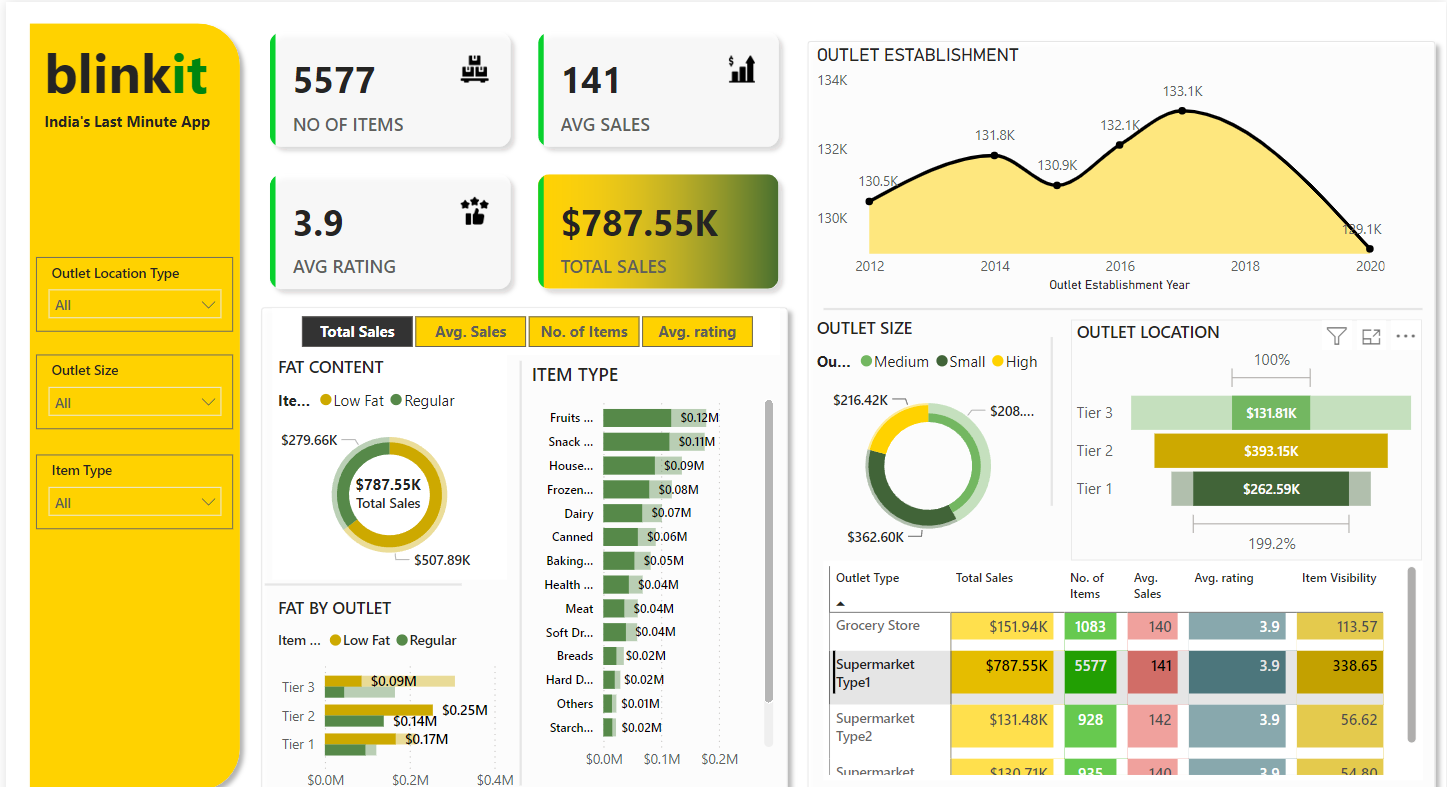

The page's visual inventory and layout, read from the dashboard file:
{"tool":"powerbi","page":{"name":"Page 1","canvas":[1280,720],"ordinal":0},"visuals":[{"type":"shape","box":[12.3,9.6,204.5,699.8],"z":0},{"type":"textbox","box":[28.8,24.7,164.7,76.8],"z":1000},{"type":"textbox","box":[28.8,91.9,164.7,46.7],"z":2000},{"type":"cardVisual","fields":{"Data":["BlinkIT Grocery Data.No. of Items","BlinkIT Grocery Data.Avg. Sales","BlinkIT Grocery Data.Avg. rating","BlinkIT Grocery Data.Total Sales"]},"box":[217.6,9.8,486.7,262.2],"z":3000},{"type":"shape","box":[217.5,262.5,486.2,447.5],"z":4000},{"type":"donutChart","title":"FAT CONTENT","fields":{"Y":["BlinkIT Grocery Data.Total Sales"],"Category":["BlinkIT Grocery Data.Item Fat Content"]},"box":[236.2,313.8,208.8,200],"z":5000},{"type":"slicer","fields":{"Values":["Metrics.Metrics"]},"box":[236.2,272.5,451.2,41.2],"z":6000},{"type":"cardVisual","fields":{"Data":["BlinkIT Grocery Data.Total Sales"]},"box":[291.1,402.2,97.8,64.4],"z":6001},{"type":"clusteredBarChart","title":"FAT BY OUTLET","fields":{"Y":["BlinkIT Grocery Data.Total Sales"],"Category":["BlinkIT Grocery Data.Outlet Location Type"],"Series":["BlinkIT Grocery Data.Item Fat Content"]},"box":[236.2,527.5,228.8,182.5],"z":6002},{"type":"shape","box":[230,507.5,175,20],"z":6003},{"type":"shape","box":[450,318.8,15,377.5],"z":6004},{"type":"barChart","title":"ITEM TYPE","fields":{"Category":["BlinkIT Grocery Data.Item Type"],"Y":["BlinkIT Grocery Data.Total Sales"]},"box":[462.5,318.8,225,372.5],"z":6005},{"type":"shape","box":[703.8,25,576.2,685],"z":6006},{"type":"lineChart","title":"OUTLET ESTABLISHMENT","fields":{"Category":["BlinkIT Grocery Data.Outlet Establishment Year"],"Y":["Sum(BlinkIT Grocery Data.Sales)"]},"box":[715,37.5,515,225],"z":6007},{"type":"shape","box":[726.2,266.2,532.5,12.5],"z":6008},{"type":"donutChart","title":"OUTLET SIZE","fields":{"Y":["BlinkIT Grocery Data.Total Sales"],"Category":["BlinkIT Grocery Data.Outlet Size"]},"box":[715,278.8,208.8,217.5],"z":6009},{"type":"shape","box":[923.8,297.5,12.5,150],"z":6010},{"type":"funnel","title":"OUTLET LOCATION","fields":{"Category":["BlinkIT Grocery Data.Outlet Location Type"],"Y":["BlinkIT Grocery Data.Total Sales"]},"box":[946.2,282.5,312.5,213.8],"z":6011},{"type":"pivotTable","fields":{"Rows":["BlinkIT Grocery Data.Outlet Type"],"Values":["BlinkIT Grocery Data.Total Sales","BlinkIT Grocery Data.No. of Items","BlinkIT Grocery Data.Avg. Sales","BlinkIT Grocery Data.Avg. rating","Sum(BlinkIT Grocery Data.Item Visibility)"]},"box":[726.2,496.2,532.5,195],"z":6012},{"type":"slicer","fields":{"Values":["BlinkIT Grocery Data.Outlet Location Type"]},"box":[26.7,226.7,175.6,66.7],"z":6013},{"type":"slicer","fields":{"Values":["BlinkIT Grocery Data.Outlet Size"]},"box":[26.7,313.3,175.6,66.7],"z":6014},{"type":"slicer","fields":{"Values":["BlinkIT Grocery Data.Item Type"]},"box":[26.7,402.2,175.6,66.7],"z":6015}]}

Visuals, with their boxes on the page's 1280x720 design canvas (x1, y1, x2, y2). These are canvas units, not pixel positions in the 1447x787 screenshot, which may show the page scaled, cropped or inside an application window:
shape: 12:10:217:709
textbox: 29:25:194:102
textbox: 29:92:194:139
cardVisual - BlinkIT Grocery Data.No. of Items x BlinkIT Grocery Data.Avg. Sales: 218:10:704:272
shape: 218:262:704:710
"FAT CONTENT" donutChart: 236:314:445:514
slicer - Metrics.Metrics: 236:272:687:314
cardVisual - BlinkIT Grocery Data.Total Sales: 291:402:389:467
"FAT BY OUTLET" clusteredBarChart: 236:528:465:710
shape: 230:508:405:528
shape: 450:319:465:696
"ITEM TYPE" barChart: 462:319:688:691
shape: 704:25:1280:710
"OUTLET ESTABLISHMENT" lineChart: 715:38:1230:262
shape: 726:266:1259:279
"OUTLET SIZE" donutChart: 715:279:924:496
shape: 924:298:936:448
"OUTLET LOCATION" funnel: 946:282:1259:496
pivotTable - BlinkIT Grocery Data.Outlet Type x BlinkIT Grocery Data.Total Sales: 726:496:1259:691
slicer - BlinkIT Grocery Data.Outlet Location Type: 27:227:202:293
slicer - BlinkIT Grocery Data.Outlet Size: 27:313:202:380
slicer - BlinkIT Grocery Data.Item Type: 27:402:202:469
